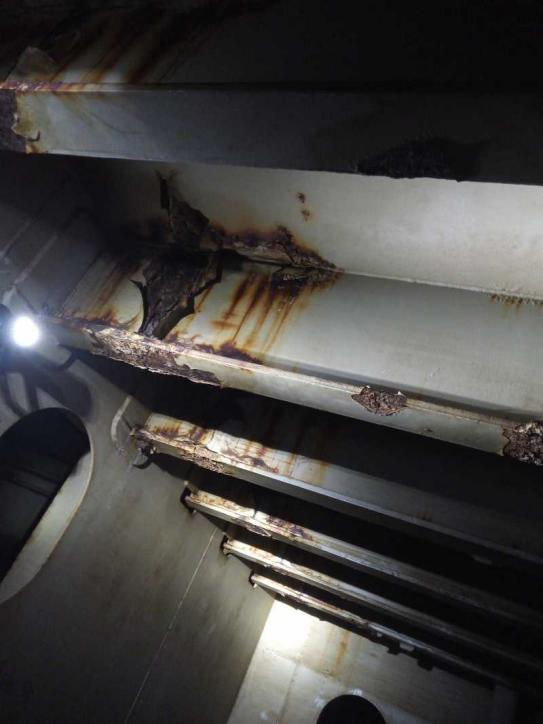corrosion: (90, 242, 222, 339), (217, 263, 342, 355), (17, 30, 175, 89), (191, 495, 317, 556), (225, 413, 329, 483), (92, 337, 219, 388), (211, 222, 344, 267), (140, 173, 221, 244), (335, 373, 414, 421), (139, 409, 216, 452), (490, 415, 543, 470), (0, 90, 39, 151), (332, 627, 363, 680)
